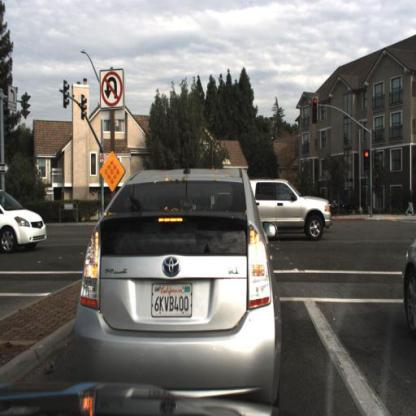car: (61, 157, 283, 409), (243, 164, 338, 252), (1, 189, 48, 253), (400, 227, 416, 343), (317, 196, 352, 221)
trafficLight-Red: (361, 145, 373, 176), (311, 94, 321, 126)
